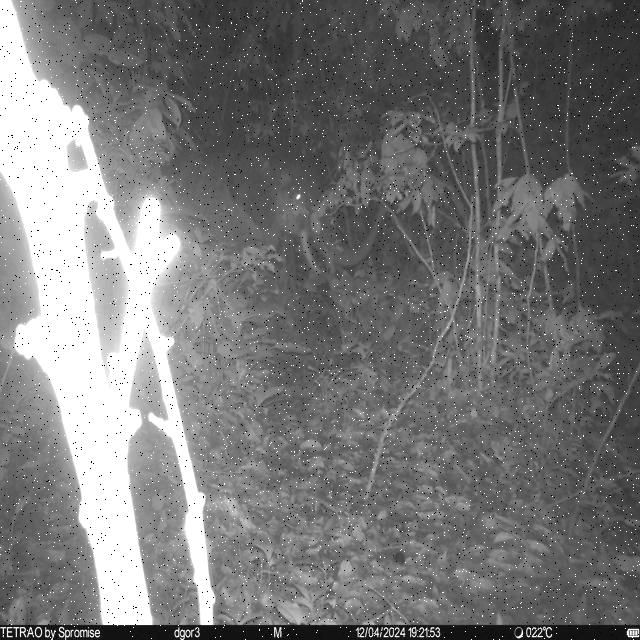ear: (230, 144, 280, 232)
elephant: (182, 142, 394, 280)
tusk: (302, 231, 322, 277)
